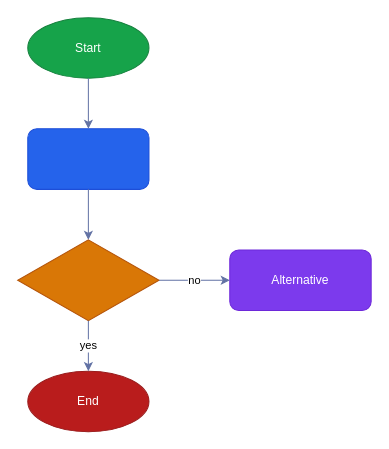
Some shapes in this 389 by 449 pixel diagram are drawn without their labels. Each missing label, with the centre of its shape:
"Decision" belongs at point 88,280.
"Step" belongs at point 88,158.
